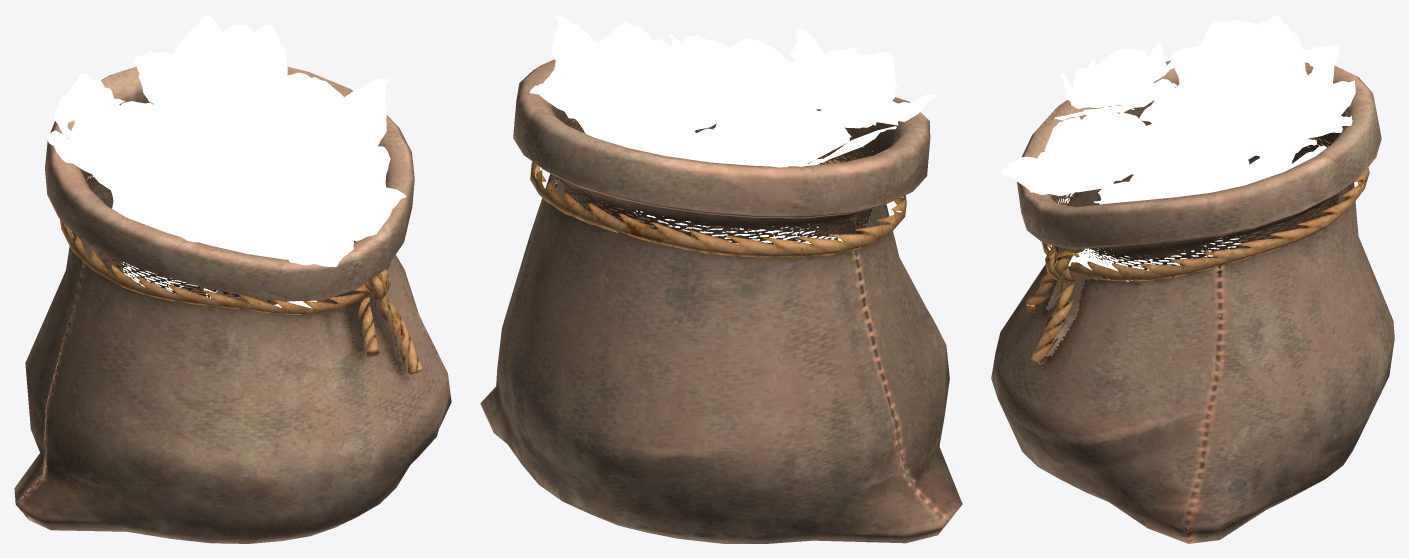
The picture shows the model from 3 angles, left to right: view 1: azimuth 30°, elevation 25°; view 2: azimuth 150°, elevation 25°; view 3: azimuth 270°, elevation 25°; orthographic projection. The views are drawn at different scales.
Parts seen in each view (by area): view 1: SM_Dec_Kitchen_Sack_Cabbage_Large_LOD0; view 2: SM_Dec_Kitchen_Sack_Cabbage_Large_LOD0; view 3: SM_Dec_Kitchen_Sack_Cabbage_Large_LOD0.
Boxes of the visible parts, x1,y1,x2,y2 form: SM_Dec_Kitchen_Sack_Cabbage_Large_LOD0: (14,15,451,543); SM_Dec_Kitchen_Sack_Cabbage_Large_LOD0: (480,15,962,543); SM_Dec_Kitchen_Sack_Cabbage_Large_LOD0: (991,15,1394,543).
Bounding box in the file's own units: 0.9674 × 0.9181 × 0.8283.
Materials: 2 (2 with a texture image).
